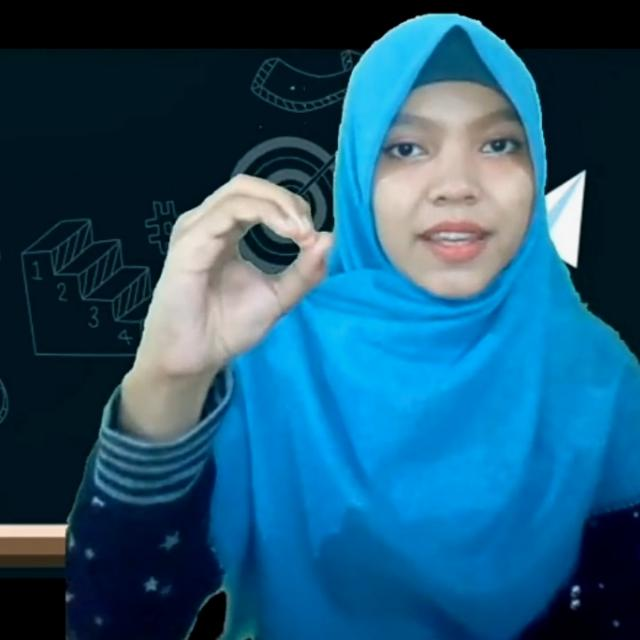O: (138, 160, 336, 380)
